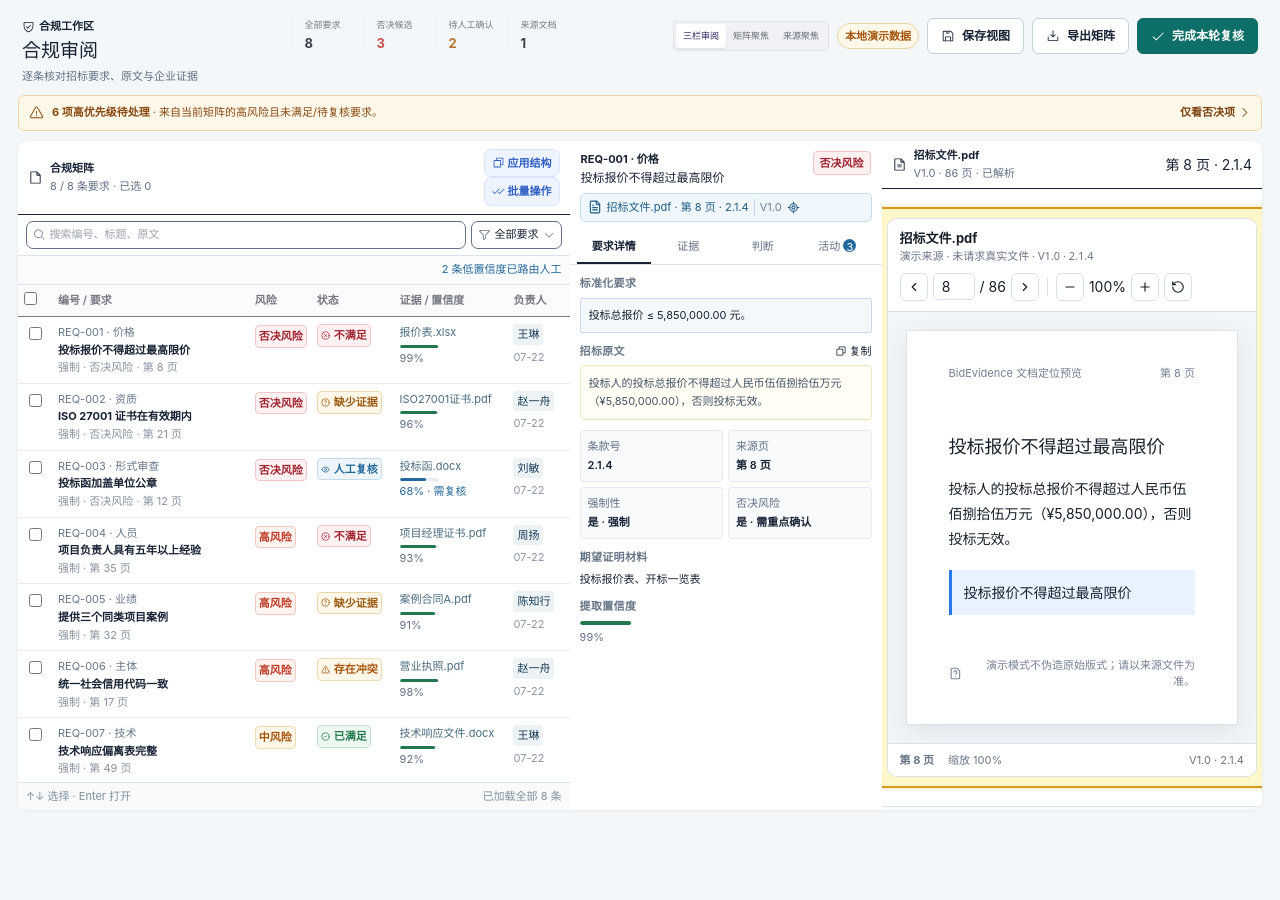
Test: RequirementsWorkbench › filters to disqualification candidates
This screenshot has width=1280, height=900.
Select "否决项" in the dropdown named "筛选要求" at (517,235), box [495,226,539,243]
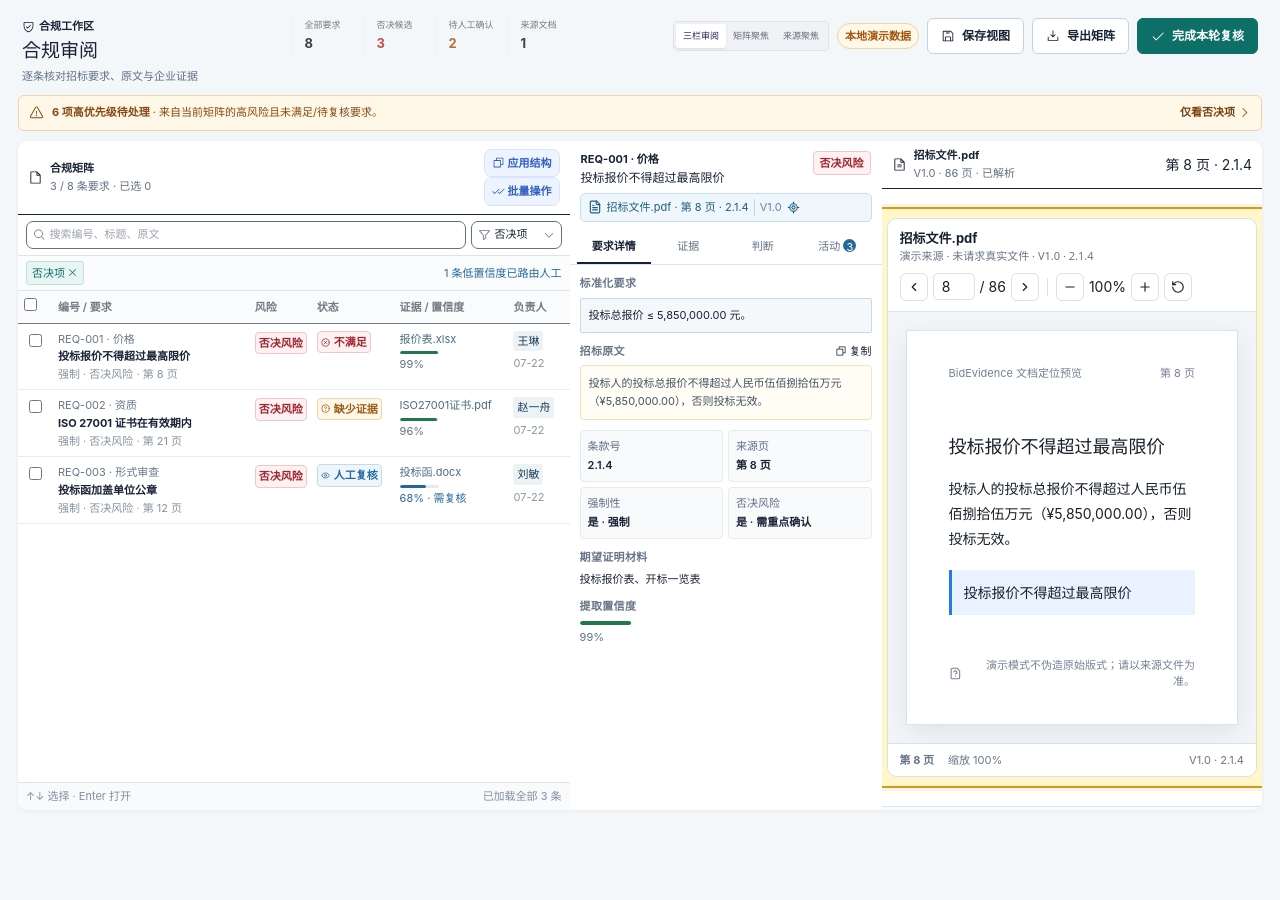
Expected: the text "强制 · 否决风险 · 第 8 页" is shown, [58,367,178,381]
Result: the text "技术响应偏离表完整" is gone
